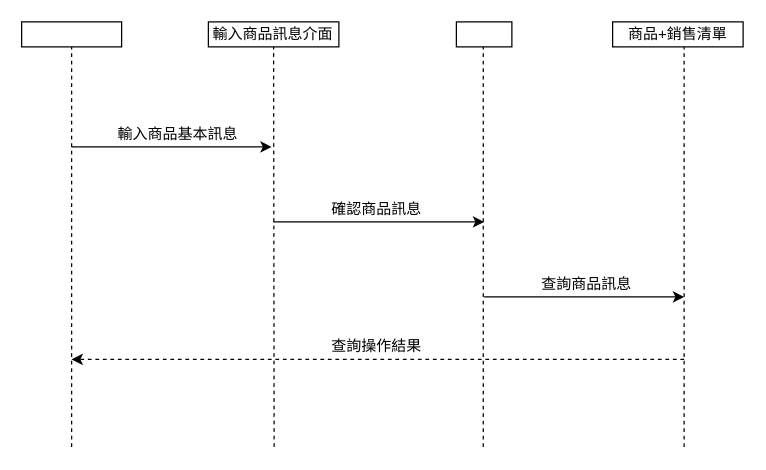
Some shapes in this 766 by 470 pixel diagram are drawn without their labels. The box of each missing label's shape, as (x1, y1, x2, y2) in pixels:
查詢: (455, 21, 512, 47)
系統管理員: (20, 21, 122, 47)
